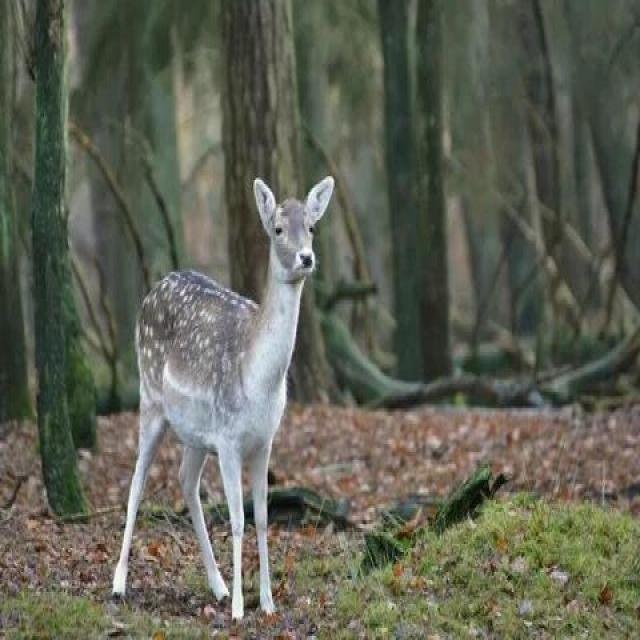deer: (81, 182, 339, 554)
